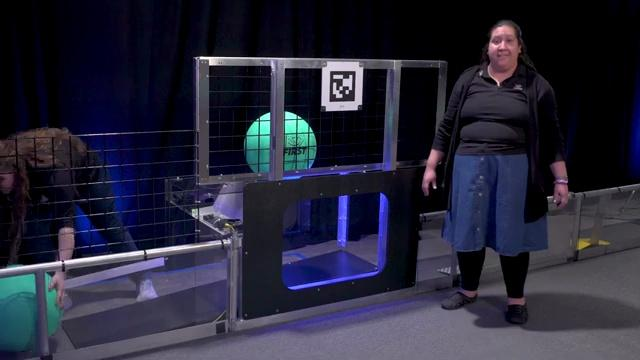ALGAE: (0, 262, 63, 353), (243, 110, 317, 173)
